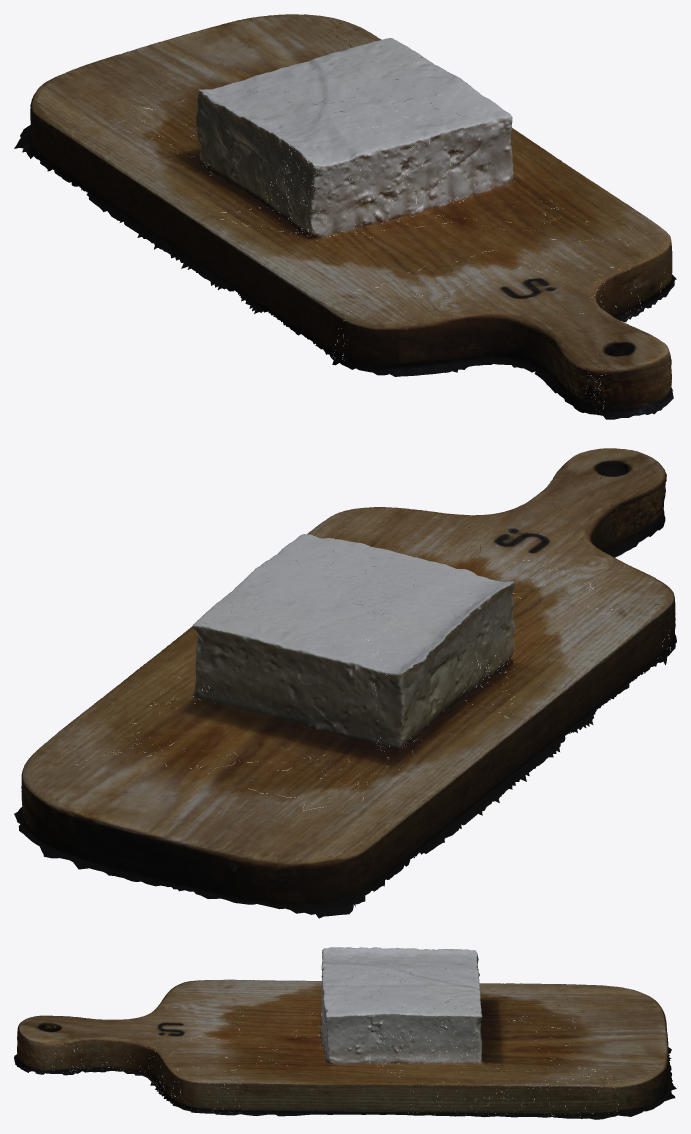
The model's file is tofu.glb.
3 views of the same model, one above another, from view 1: azimuth 30°, elevation 25°; view 2: azimuth 150°, elevation 25°; view 3: azimuth 270°, elevation 25° (orthographic). The views are drawn at different scales.
Parts seen in each view (by area): view 1: Model; view 2: Model; view 3: Model.
Part boxes in pixels (x1,y1,x2,y2): Model: (14,14,676,419); Model: (14,448,676,918); Model: (14,947,676,1119).
Size of the model in its own units: 1.05 by 0.3939 by 2.52.
1 material, 1 textured.
